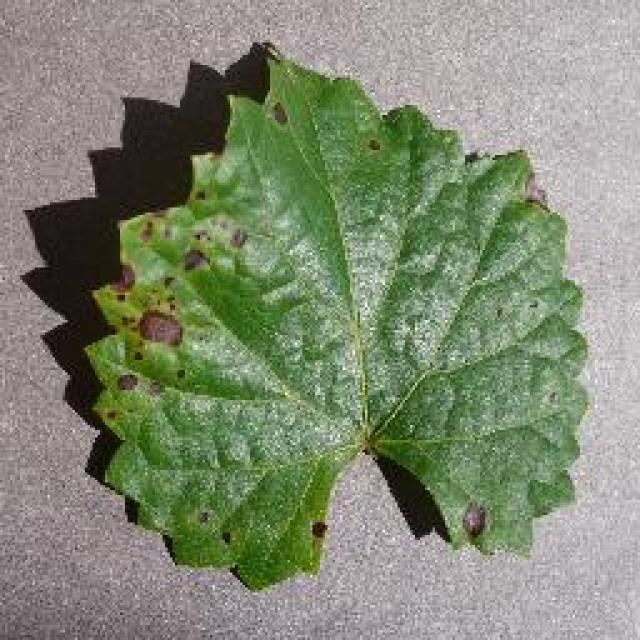Grape___Black_rot: (78, 49, 597, 596)
